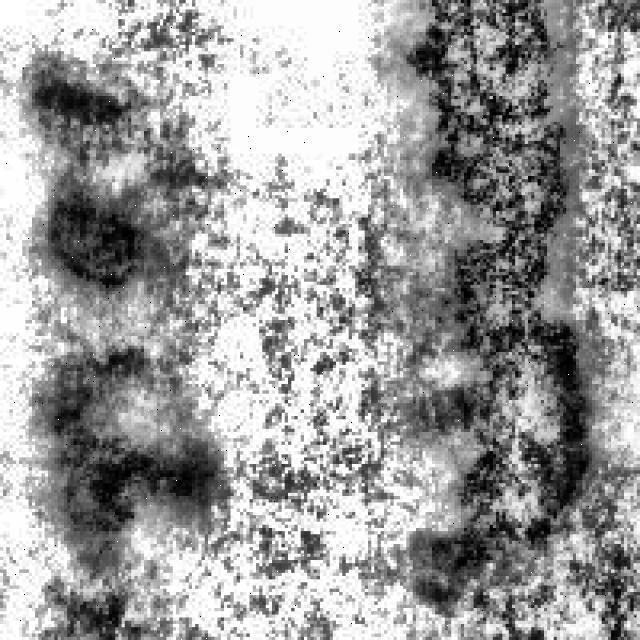Scratches: (390, 0, 596, 589), (28, 371, 212, 557), (38, 157, 166, 301)
